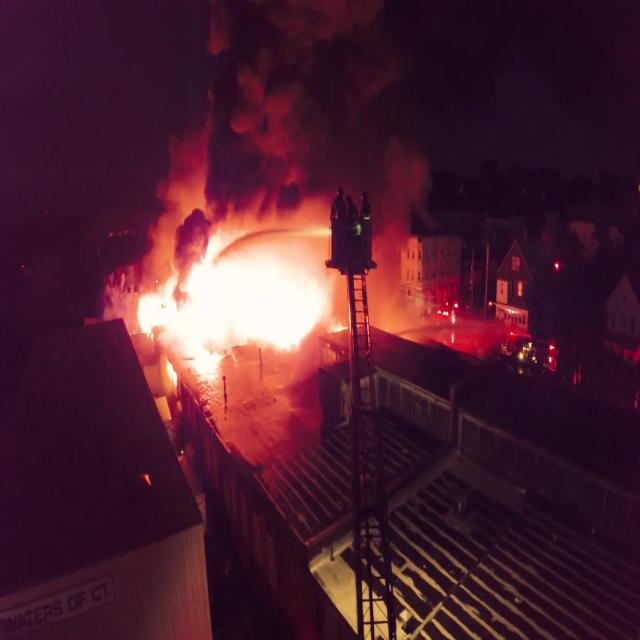Fire: (134, 228, 326, 368)
Smoke: (132, 0, 426, 301)
